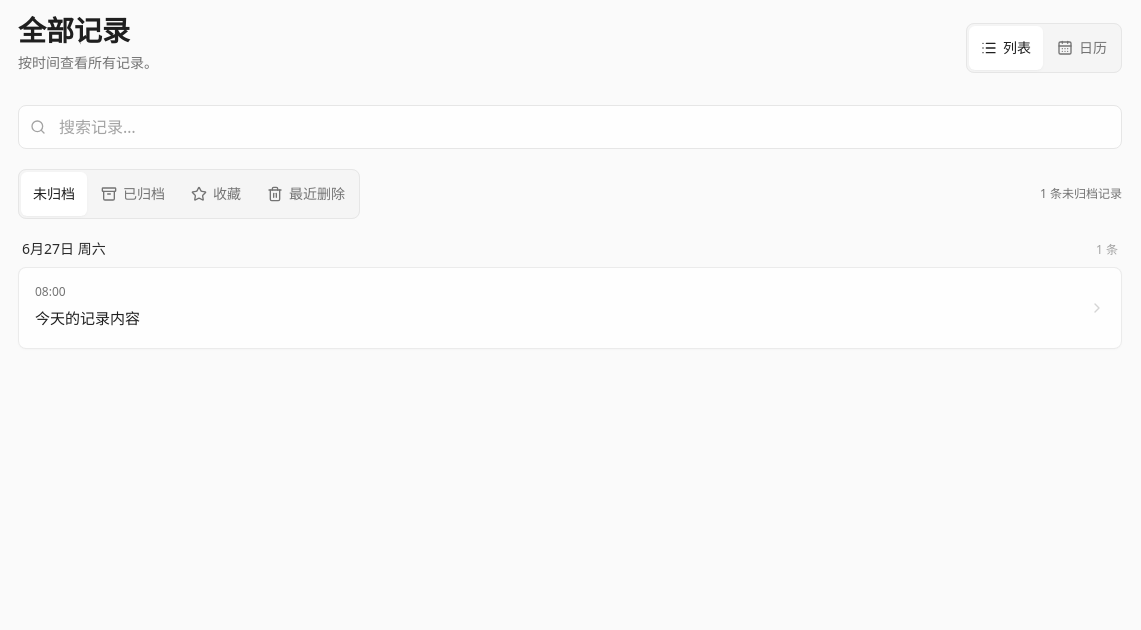
Test: TimelinePage › restores the base list and ignores a late response after clearing
Expected: the text "今天的记录内容" is shown, [35,308,140,328]
Type "稍后返回" into the search field with placeholder "搜索记录…" at (570, 127), box [18,105,1122,149]
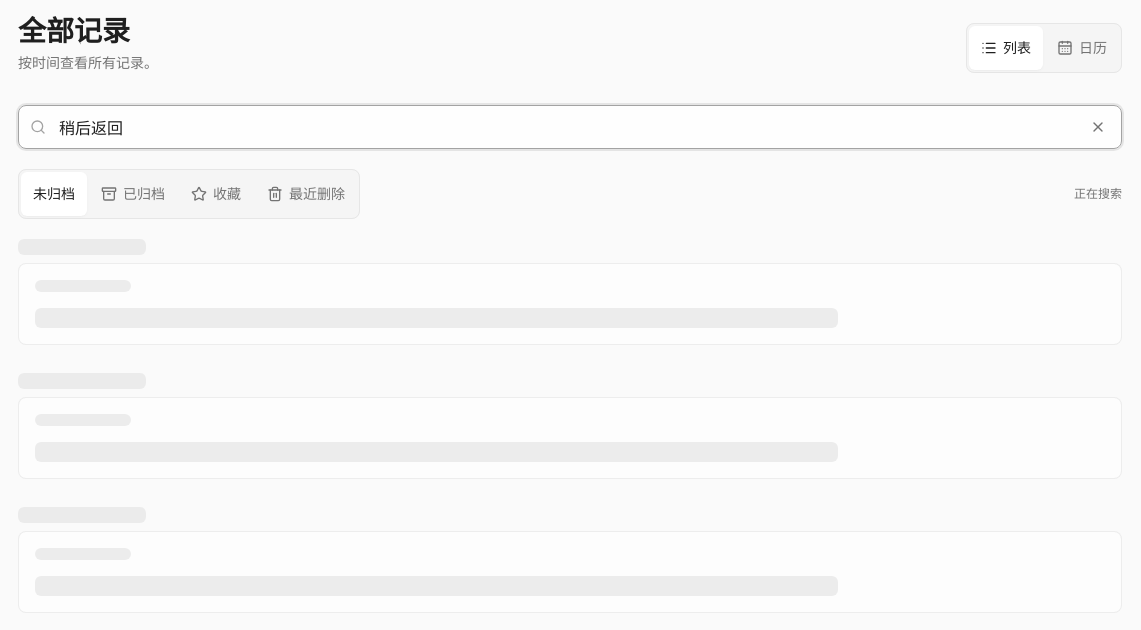
Expected: the link "今天的记录内容" is gone
Click the button named "清除搜索" at (1098, 127), box [1076,105,1120,149]
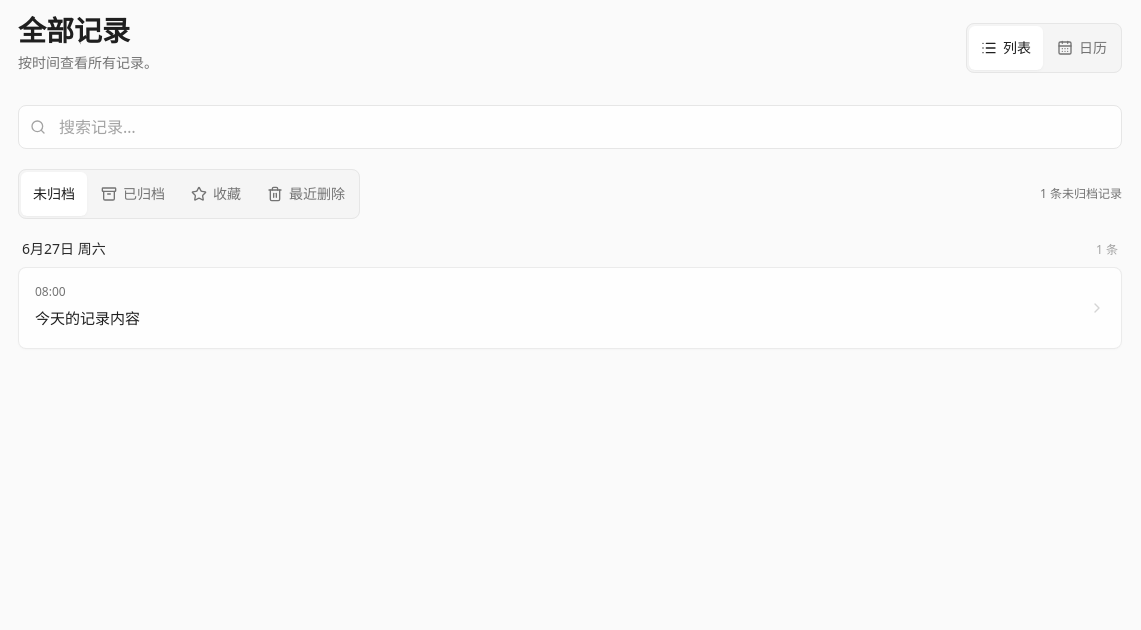
Expected: the text "今天的记录内容" is shown, [35,308,140,328]
